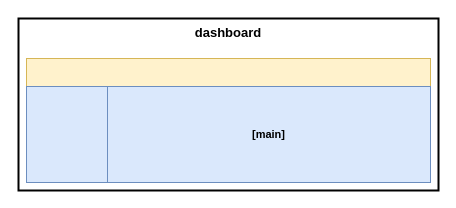
Image size: 456x208. Some labels were removed from this diagram. The shapes that lost their labels are listed below. From the top down, each one's centre as x and y in pixels, then its label:
At [228,72]: "[header]".
At [67,134]: "[nav]".
